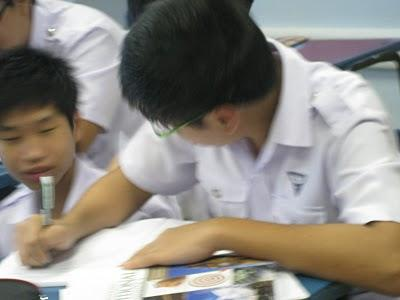person: (14, 2, 400, 297)
